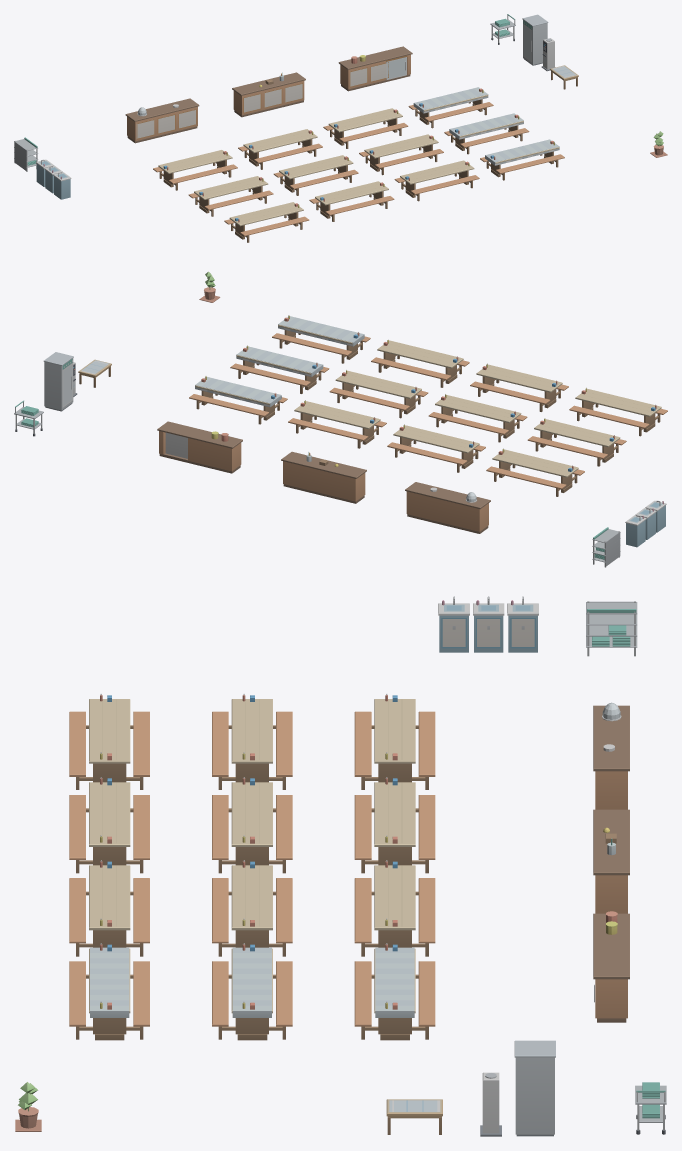
Rendered from rmt_interior_props.glb.
The picture shows the model from 3 angles, top to bottom: view 1: azimuth 30°, elevation 25°; view 2: azimuth 150°, elevation 25°; view 3: azimuth 270°, elevation 25°; orthographic projection. The views are drawn at different scales.
Visible parts, largest first — view 1: kaunter_2, kaunter_1, kaunter_3, meja_makan_4, meja_makan_8, meja_makan_12, meja_makan_1, meja_makan_5, meja_makan_10, meja_makan_11, meja_makan_2, meja_makan_9 (+8 smaller); view 2: kaunter_3, kaunter_1, kaunter_2, meja_makan_4, meja_makan_8, meja_makan_12, meja_makan_10, meja_makan_11, meja_makan_5, meja_makan_2, meja_makan_3, meja_makan_9 (+8 smaller); view 3: meja_makan_4, meja_makan_8, meja_makan_12, meja_makan_2, meja_makan_1, meja_makan_3, meja_makan_6, meja_makan_5, meja_makan_10, meja_makan_9, meja_makan_11, meja_makan_7 (+12 smaller).
Part boxes in pixels (bbox=[...]): kaunter_2: bbox=[232, 72, 305, 117]; kaunter_1: bbox=[125, 98, 199, 143]; kaunter_3: bbox=[338, 46, 412, 91]; meja_makan_4: bbox=[408, 87, 493, 128]; meja_makan_8: bbox=[444, 113, 529, 154]; meja_makan_12: bbox=[480, 139, 564, 180]; meja_makan_1: bbox=[153, 150, 237, 190]; meja_makan_5: bbox=[188, 176, 273, 216]; meja_makan_10: bbox=[309, 181, 394, 221]; meja_makan_11: bbox=[394, 160, 479, 201]; meja_makan_2: bbox=[238, 129, 322, 169]; meja_makan_9: bbox=[224, 202, 309, 242]; kaunter_3: bbox=[157, 421, 242, 473]; kaunter_1: bbox=[405, 482, 490, 533]; kaunter_2: bbox=[281, 451, 366, 503]; meja_makan_4: bbox=[189, 376, 287, 424]; meja_makan_8: bbox=[230, 345, 329, 393]; meja_makan_12: bbox=[272, 315, 370, 363]; meja_makan_10: bbox=[470, 363, 568, 411]; meja_makan_11: bbox=[371, 339, 469, 387]; meja_makan_5: bbox=[527, 418, 626, 466]; meja_makan_2: bbox=[387, 424, 485, 472]; meja_makan_3: bbox=[288, 400, 386, 448]; meja_makan_9: bbox=[569, 387, 667, 436]; meja_makan_4: bbox=[354, 943, 435, 1040]; meja_makan_8: bbox=[212, 943, 292, 1040]; meja_makan_12: bbox=[69, 943, 149, 1040]; meja_makan_2: bbox=[354, 777, 435, 873]; meja_makan_1: bbox=[354, 693, 435, 789]; meja_makan_3: bbox=[354, 860, 435, 956]; meja_makan_6: bbox=[212, 777, 292, 873]; meja_makan_5: bbox=[212, 693, 292, 789]; meja_makan_10: bbox=[69, 777, 149, 873]; meja_makan_9: bbox=[69, 693, 149, 789]; meja_makan_11: bbox=[69, 860, 149, 956]; meja_makan_7: bbox=[212, 860, 292, 956].
Bounding box in the file's own units: 23.77 × 1.82 × 13.24.
